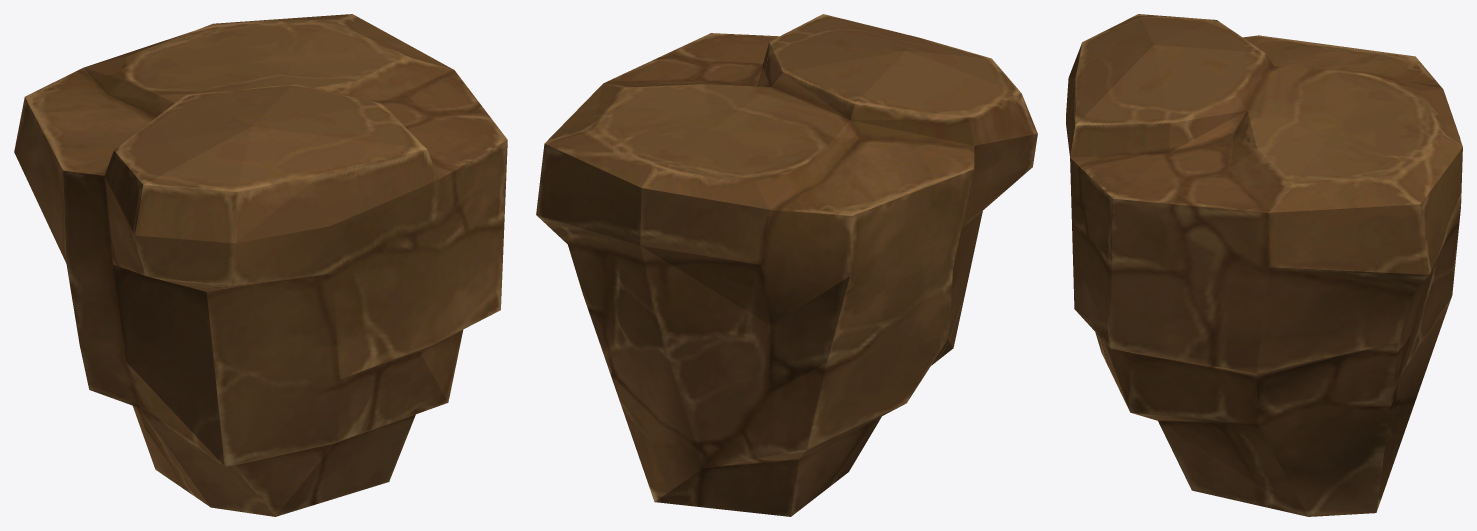
Rendered from shakian_object_dimension_rock01_02.FBX.
3 views of the same model, side by side, from view 1: azimuth 30°, elevation 25°; view 2: azimuth 150°, elevation 25°; view 3: azimuth 270°, elevation 25° (orthographic). The views are drawn at different scales.
Parts seen in each view (by area): view 1: shakian_object_dimension_rock01_02; view 2: shakian_object_dimension_rock01_02; view 3: shakian_object_dimension_rock01_02.
Part boxes in pixels (bbox=[...]): shakian_object_dimension_rock01_02: bbox=[14, 14, 507, 516]; shakian_object_dimension_rock01_02: bbox=[536, 14, 1037, 516]; shakian_object_dimension_rock01_02: bbox=[1066, 14, 1462, 516].
Size of the model in its own units: 6.28 by 6.55 by 5.88.
